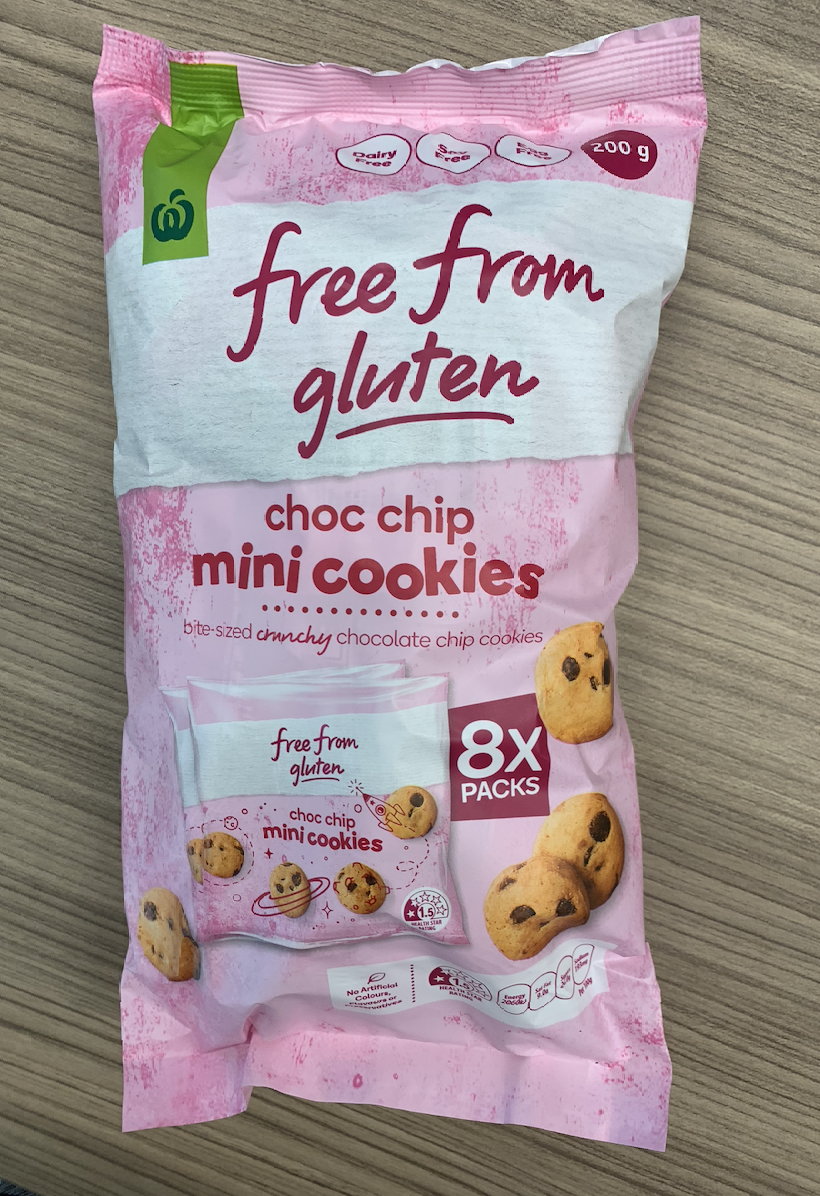cookies_150g: (133, 85, 657, 1057)
